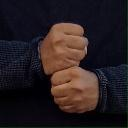hand: (40, 22, 88, 75), (51, 66, 99, 114)
